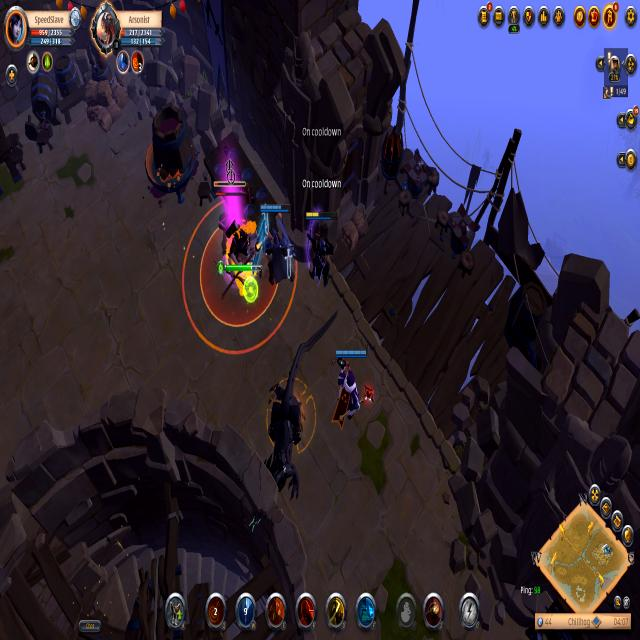ore: (212, 169, 257, 288)
red: (330, 342, 371, 430), (255, 200, 292, 293), (302, 207, 338, 291)
silver: (181, 197, 297, 354)
